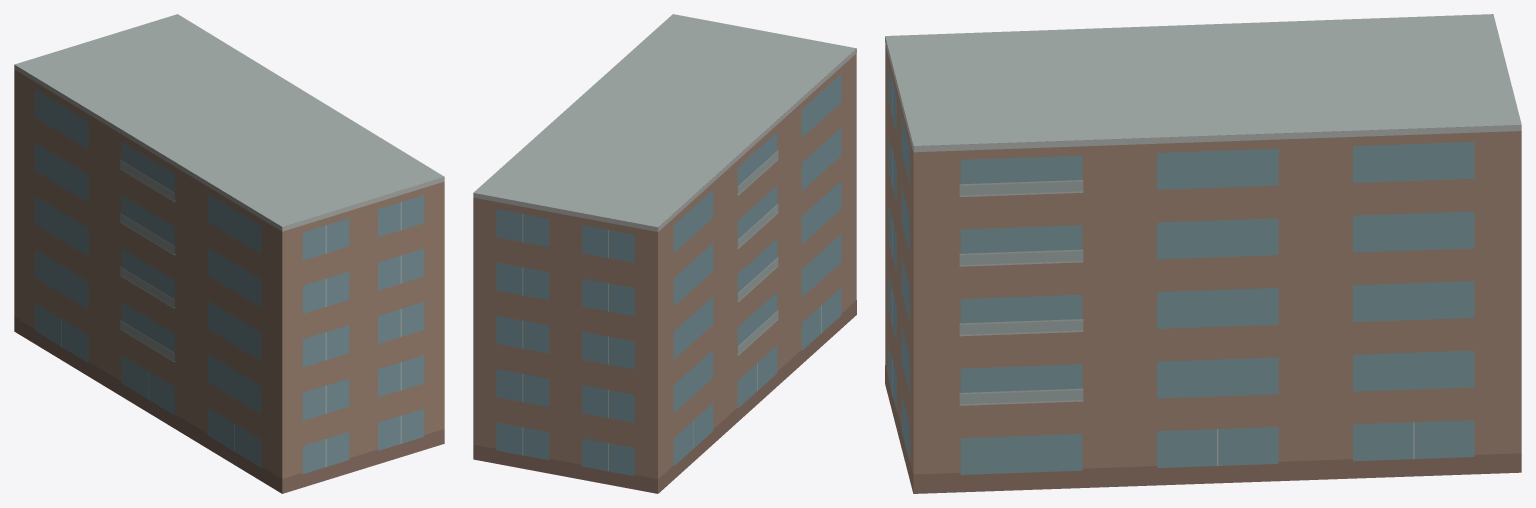
The model's file is survey-upis-32662158.glb.
3 views of the same model, side by side, from view 1: azimuth 30°, elevation 25°; view 2: azimuth 150°, elevation 25°; view 3: azimuth 270°, elevation 25° (orthographic). The views are drawn at different scales.
Parts seen in each view (by area): view 1: survey-upis-32662158.tmp; view 2: survey-upis-32662158.tmp; view 3: survey-upis-32662158.tmp.
Boxes of the visible parts, bbox=[...] form: survey-upis-32662158.tmp: bbox=[14, 14, 444, 493]; survey-upis-32662158.tmp: bbox=[473, 14, 856, 493]; survey-upis-32662158.tmp: bbox=[885, 14, 1521, 493].
Bounding box in the file's own units: 11.17 × 13.7 × 22.74.
